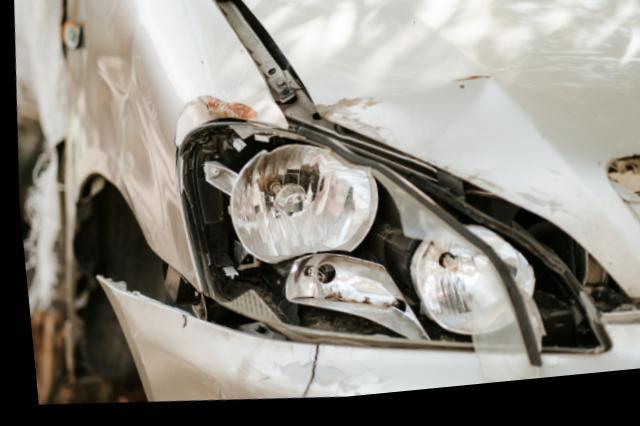crack: (294, 350, 313, 403)
dent: (172, 104, 237, 153)
dislocated part: (92, 258, 599, 404)
lamp broken: (177, 127, 594, 363)
